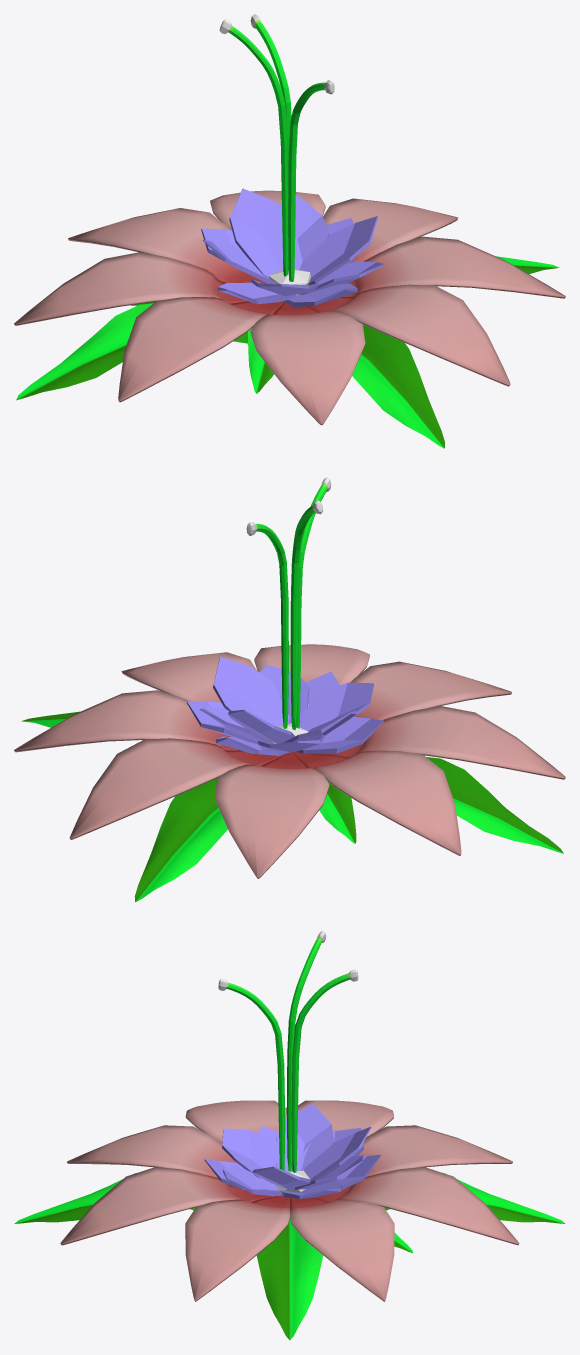
The model's file is BombFlower.fbx.
3 renders of one model, top to bottom at view 1: azimuth 30°, elevation 25°; view 2: azimuth 150°, elevation 25°; view 3: azimuth 270°, elevation 25°, orthographic. The views are drawn at different scales.
Parts seen in each view (by area): view 1: BombFlower, Flower, Yaprak.003, tomurcuk; view 2: BombFlower, Flower, Yaprak.003, tomurcuk; view 3: BombFlower, Flower, Yaprak.003, tomurcuk.
Part boxes in pixels (box(x1,y1,x2,y2)): BombFlower: box(14, 190, 565, 425); Flower: box(201, 188, 384, 307); Yaprak.003: box(16, 256, 559, 448); tomurcuk: box(219, 14, 334, 281); BombFlower: box(14, 644, 565, 878); Flower: box(187, 657, 383, 755); Yaprak.003: box(21, 711, 563, 902); tomurcuk: box(246, 477, 331, 729); BombFlower: box(60, 1100, 519, 1301); Flower: box(204, 1104, 380, 1198); Yaprak.003: box(14, 1107, 565, 1340); tomurcuk: box(218, 931, 358, 1172).
Bounding box in the file's own units: 2.5 × 1.37 × 2.5.
